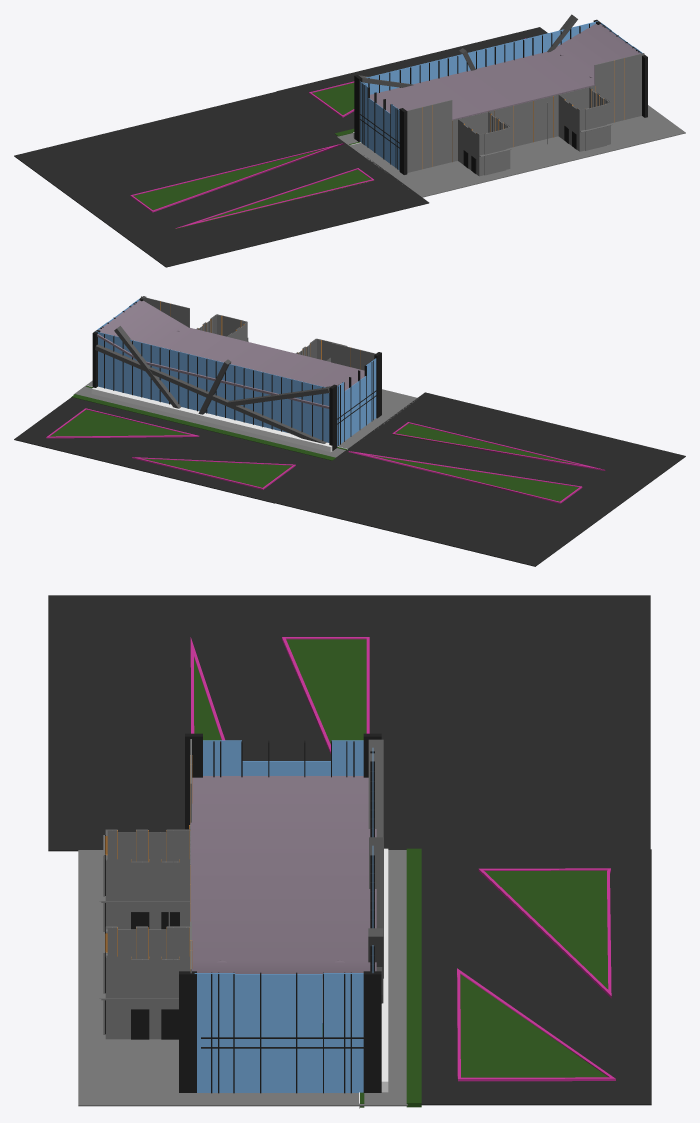
The model's file is uploads_files_5163496_Atlantis+Lobby+3D.fbx.
3 views of the same model, one above another, from view 1: azimuth 30°, elevation 25°; view 2: azimuth 150°, elevation 25°; view 3: azimuth 270°, elevation 25° (orthographic). The views are drawn at different scales.
Parts seen in each view (by area): view 1: Box377, Box321, Box325, Line001, Box370, Box289, Line002, Box287, Box282, Box283, Box233, Box083 (+10 smaller); view 2: Box377, Box370, Box289, Box321, Line001, Line002, Box325, Box390, Box291, Box376, Box294, Box292 (+3 smaller); view 3: Box377, Box370, Box321, Line001, Box325, Box362, Line002, Box353, Box361, Box376, Box323, Box326 (+16 smaller).
Boxes of the visible parts, <box> form: Box377: <box>14,91,429,267</box>; Box321: <box>370,23,640,120</box>; Box325: <box>337,105,685,197</box>; Line001: <box>133,82,374,229</box>; Box370: <box>276,27,547,133</box>; Box289: <box>362,21,598,94</box>; Line002: <box>130,38,525,228</box>; Box287: <box>432,100,452,166</box>; Box282: <box>625,53,644,119</box>; Box283: <box>407,107,422,172</box>; Box233: <box>484,128,506,175</box>; Box083: <box>585,104,606,150</box>; Box377: <box>275,392,685,566</box>; Box370: <box>14,397,331,503</box>; Box289: <box>95,331,329,442</box>; Box321: <box>97,300,364,408</box>; Line001: <box>50,409,578,501</box>; Line002: <box>46,408,605,503</box>; Box325: <box>73,380,418,457</box>; Box390: <box>91,386,332,452</box>; Box291: <box>95,344,326,443</box>; Box376: <box>71,394,335,460</box>; Box294: <box>114,326,180,408</box>; Box292: <box>226,386,331,406</box>; Box377: <box>48,595,650,851</box>; Box370: <box>420,849,651,1105</box>; Box321: <box>190,776,376,979</box>; Line001: <box>190,639,608,1077</box>; Box325: <box>78,850,407,1106</box>; Box362: <box>234,974,322,1040</box>; Line002: <box>190,637,615,1081</box>; Box353: <box>323,973,363,1092</box>; Box361: <box>194,973,235,1092</box>; Box376: <box>406,848,421,1107</box>; Box323: <box>363,971,381,1092</box>; Box326: <box>179,971,196,1092</box>.
Size of the model in its own units: 80111 by 11524 by 40084.
